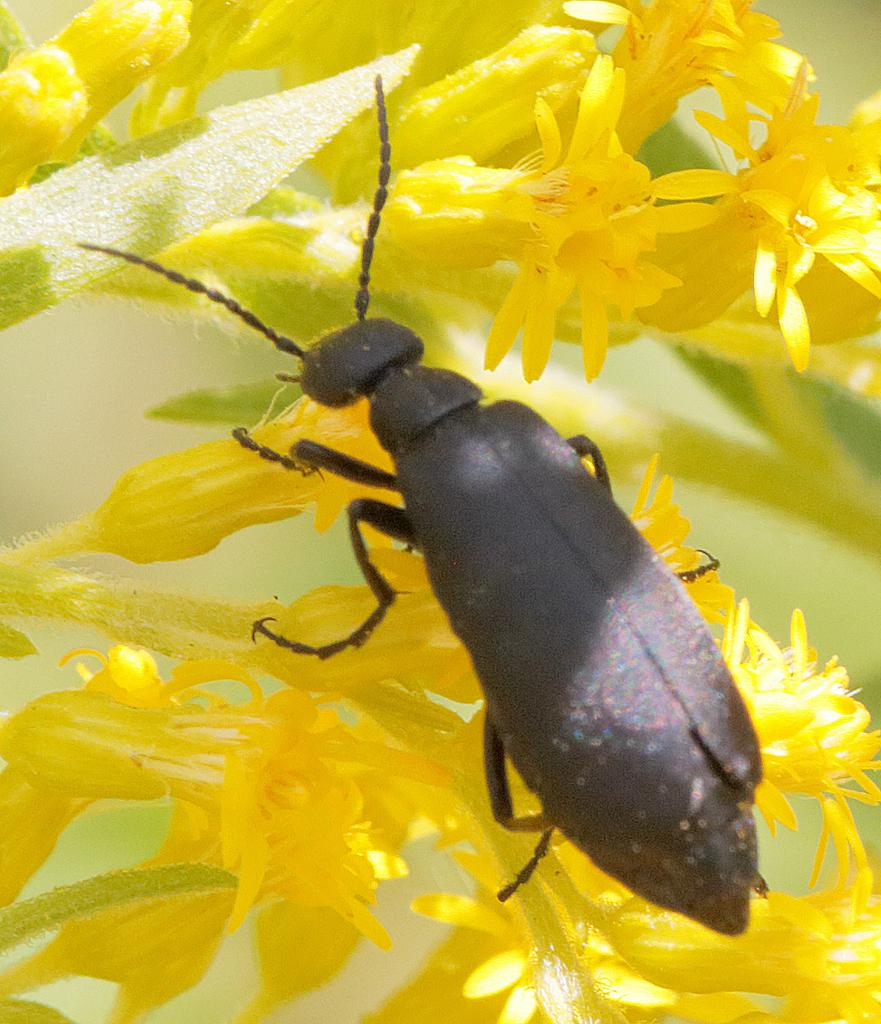blister_beetle: (1, 6, 881, 1024)
